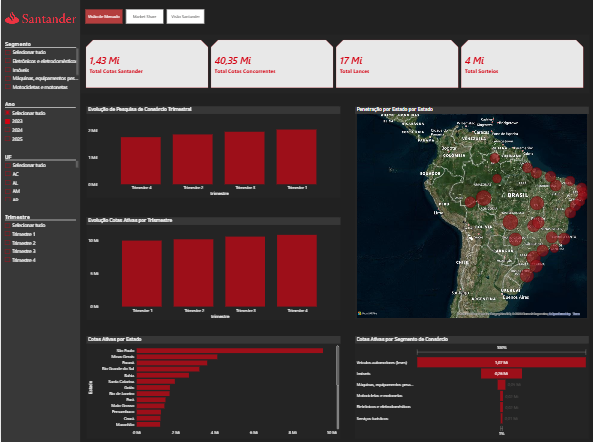

This screenshot's page, from the dashboard's own definition file:
{"tool":"powerbi","page":{"name":"Visão de Mercado","canvas":[1980,1480],"ordinal":0},"visuals":[{"type":"shape","box":[0,0,263.7,1480.8],"z":0},{"type":"map","fields":{"Category":["d_geografia.nome_estado"],"Size":["#Medidas.indice_penetracao"]},"box":[1177.5,358.2,779.1,708.9],"z":0,"group":"g1"},{"type":"image","box":[0,0,263.7,116.1],"z":1000},{"type":"clusteredColumnChart","title":"Evolução de Pesquisa de Consórcio Trimestral","fields":{"Category":["d_calendario.trimestre"],"Y":["#Medidas.volume_pesquisa_geral"]},"box":[282.5,356.4,845.9,303.9],"z":1000,"group":"g1"},{"type":"cardVisual","fields":{"Data":["#Medidas.cotas_ativas_santander","#Medidas.total_cotas_ativas_concorrente","#Medidas.total_lances","#Medidas.total_sorteios"]},"box":[262.9,116.2,1696.1,196],"z":2000,"group":"g1"},{"type":"slicer","fields":{"Values":["d_calendario.ano"]},"box":[0,332,262.5,169.9],"z":2000},{"type":"group","id":"g1","title":"Grupo 1","box":[262.9,116.2,1696.1,1347.9],"z":3000},{"type":"clusteredBarChart","title":"Cotas Ativas por Estado","fields":{"Category":["d_geografia.nome_estado"],"Y":["#Medidas.total_cotas_ativas"]},"box":[282.5,1121.7,846.7,341.7],"z":3000,"group":"g1"},{"type":"pageNavigator","box":[278,32,400,50],"z":4000},{"type":"clusteredColumnChart","title":"Evolução Cotas Ativas por Trismestre","fields":{"Category":["d_calendario.trimestre"],"Y":["#Medidas.total_cotas_ativas"]},"box":[282.5,725.1,846.7,341.7],"z":4000,"group":"g1"},{"type":"slicer","fields":{"Values":["d_segmento.descricao_segmento"]},"box":[0,127.6,263.9,170.9],"z":5000},{"type":"funnel","title":"Cotas Ativas por Segmento de Consórcio","fields":{"Category":["d_segmento.descricao_segmento"],"Y":["#Medidas.cotas_ativas_santander"]},"box":[1177.2,1122.1,779,342],"z":5000,"group":"g1"},{"type":"slicer","fields":{"Values":["d_geografia.sigla_uf"]},"box":[0,507,262.5,169.9],"z":6000},{"type":"slicer","fields":{"Values":["d_calendario.trimestre"]},"box":[0,705.2,262.5,190.5],"z":7000}]}

Visuals, with their boxes on the page's 1980x1480 design canvas (x1, y1, x2, y2). These are canvas units, not pixel positions in the 593x442 screenshot, which may show the page scaled, cropped or inside an application window:
shape: [0,0,264,1481]
map - d_geografia.nome_estado x #Medidas.indice_penetracao: [1178,358,1957,1067]
image: [0,0,264,116]
"Evolução de Pesquisa de Consórcio Trimestral" clusteredColumnChart: [282,356,1128,660]
cardVisual - #Medidas.cotas_ativas_santander x #Medidas.total_cotas_ativas_concorrente: [263,116,1959,312]
slicer - d_calendario.ano: [0,332,262,502]
"Grupo 1" group: [263,116,1959,1464]
"Cotas Ativas por Estado" clusteredBarChart: [282,1122,1129,1463]
pageNavigator: [278,32,678,82]
"Evolução Cotas Ativas por Trismestre" clusteredColumnChart: [282,725,1129,1067]
slicer - d_segmento.descricao_segmento: [0,128,264,298]
"Cotas Ativas por Segmento de Consórcio" funnel: [1177,1122,1956,1464]
slicer - d_geografia.sigla_uf: [0,507,262,677]
slicer - d_calendario.trimestre: [0,705,262,896]
